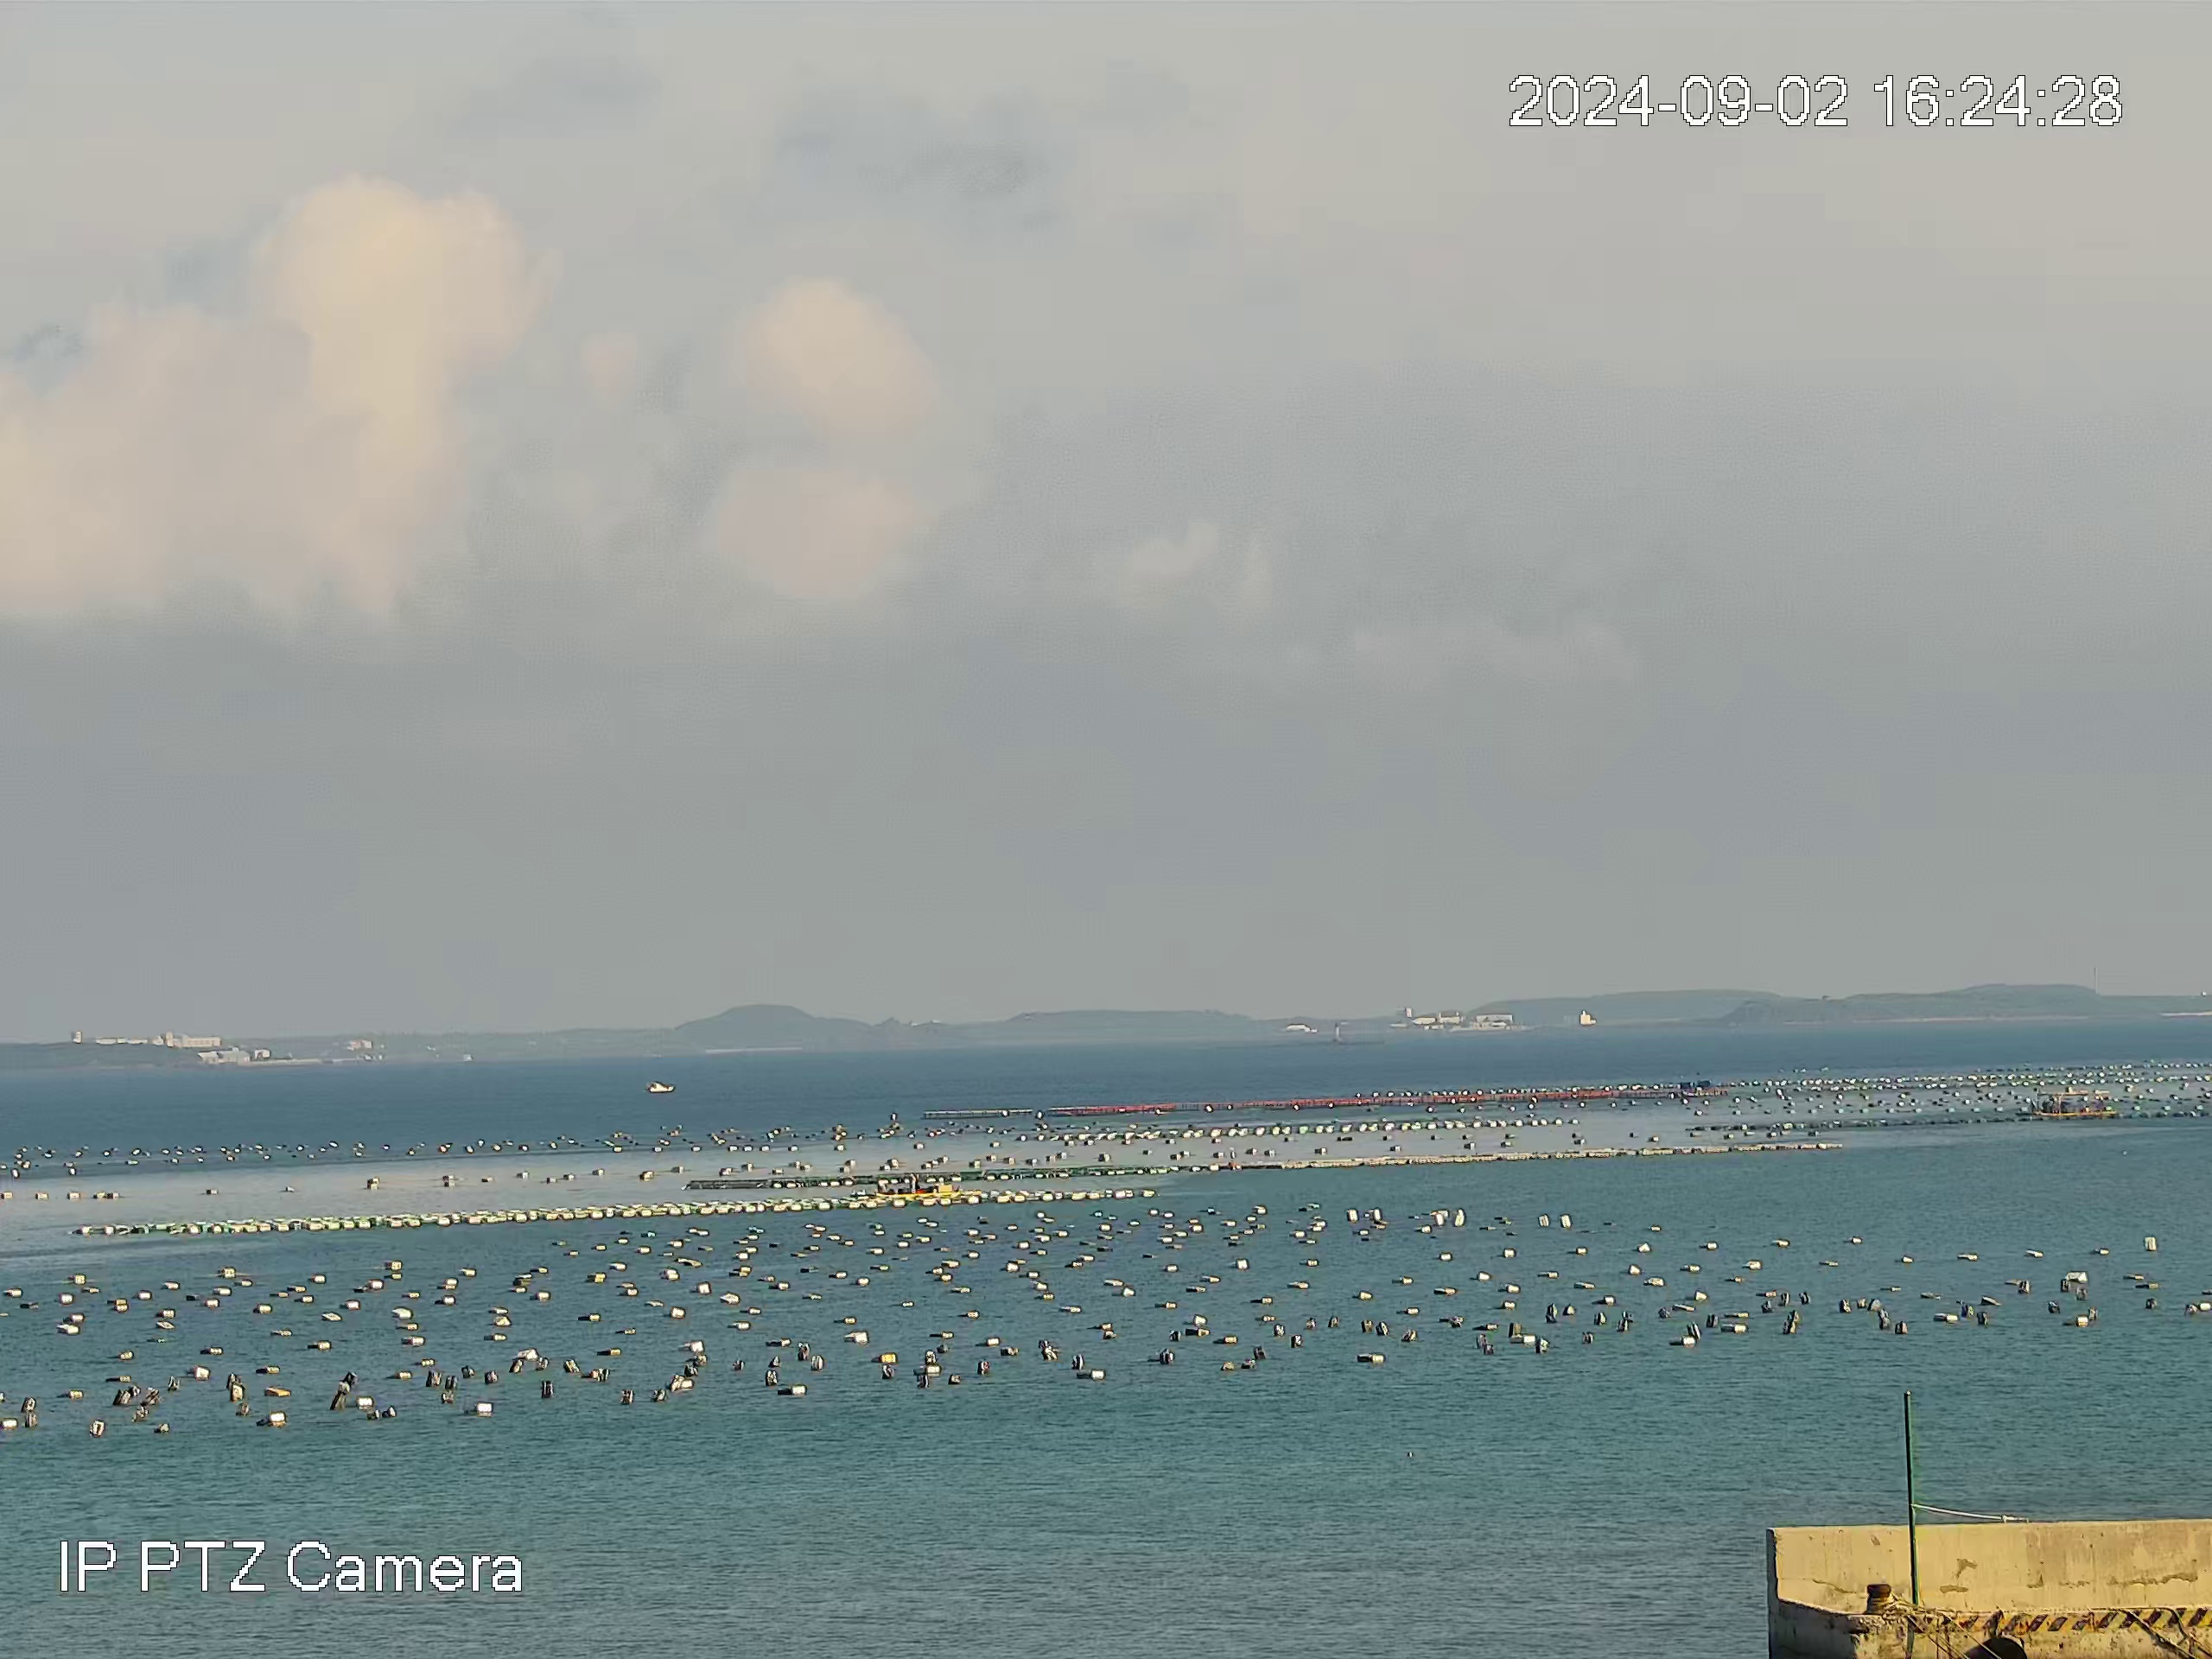boat: (2029, 1087, 2116, 1121), (873, 1173, 984, 1197), (646, 1080, 676, 1094)
